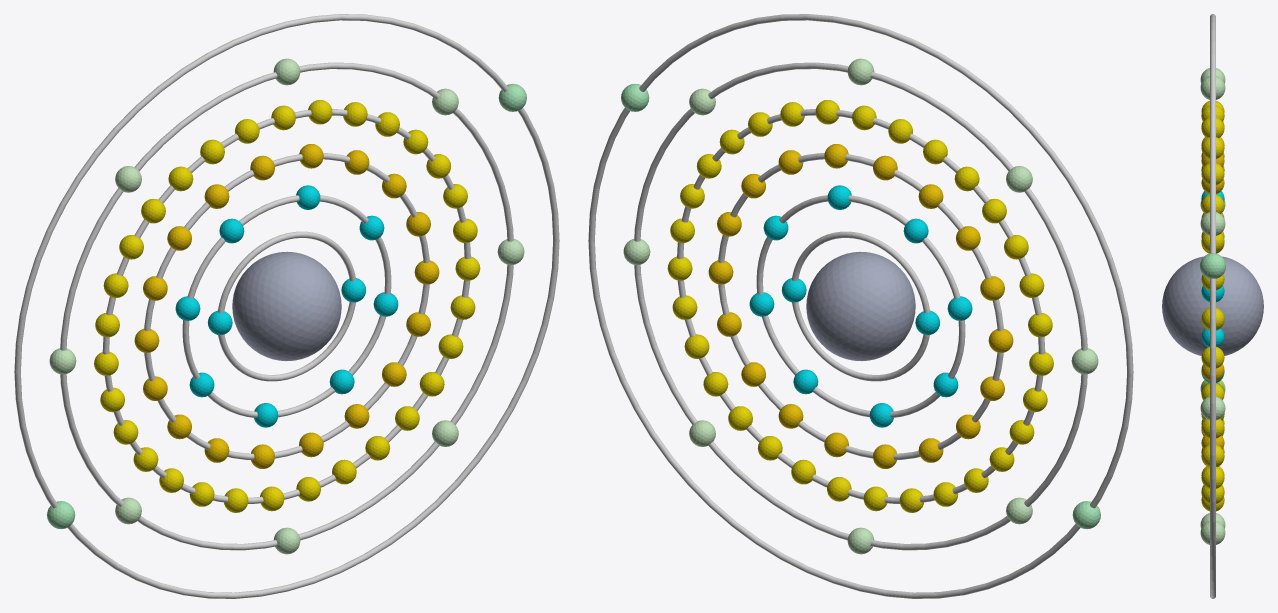
3 renders of one model, left to right at view 1: azimuth 30°, elevation 25°; view 2: azimuth 150°, elevation 25°; view 3: azimuth 270°, elevation 25°, orthographic. The views are drawn at different scales.
Parts seen in each view (by area): view 1: world; view 2: world; view 3: world.
Boxes of the visible parts, left/top/right/bottom form: world: left=14, top=14, right=559, bottom=598; world: left=588, top=14, right=1133, bottom=598; world: left=1162, top=14, right=1263, bottom=598.
Size of the model in its own units: 2.53 by 2.53 by 0.44.
